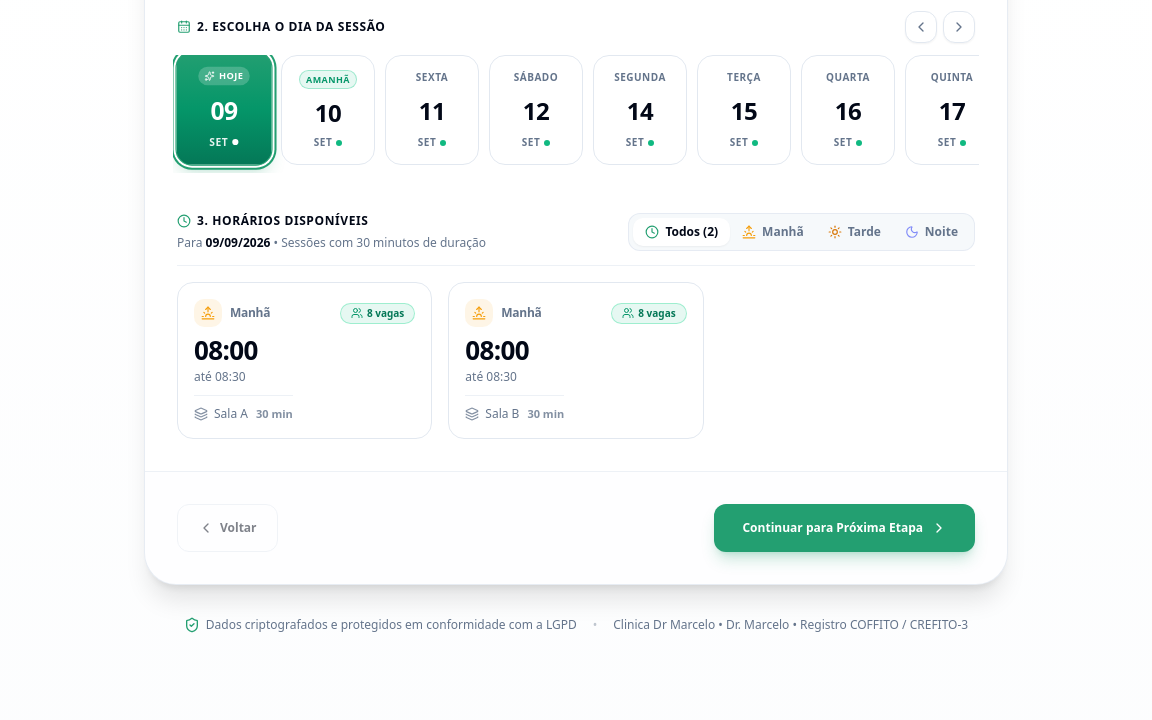
an open page removes a selected slot when its start arrives
(page scrolled)
Click the button "Manhã 8 vagas 08:00 até 08:30 Sala A 30 min".
click(305, 360)  # box x1=177 y1=282 x2=432 y2=439
Wait 1000 ms
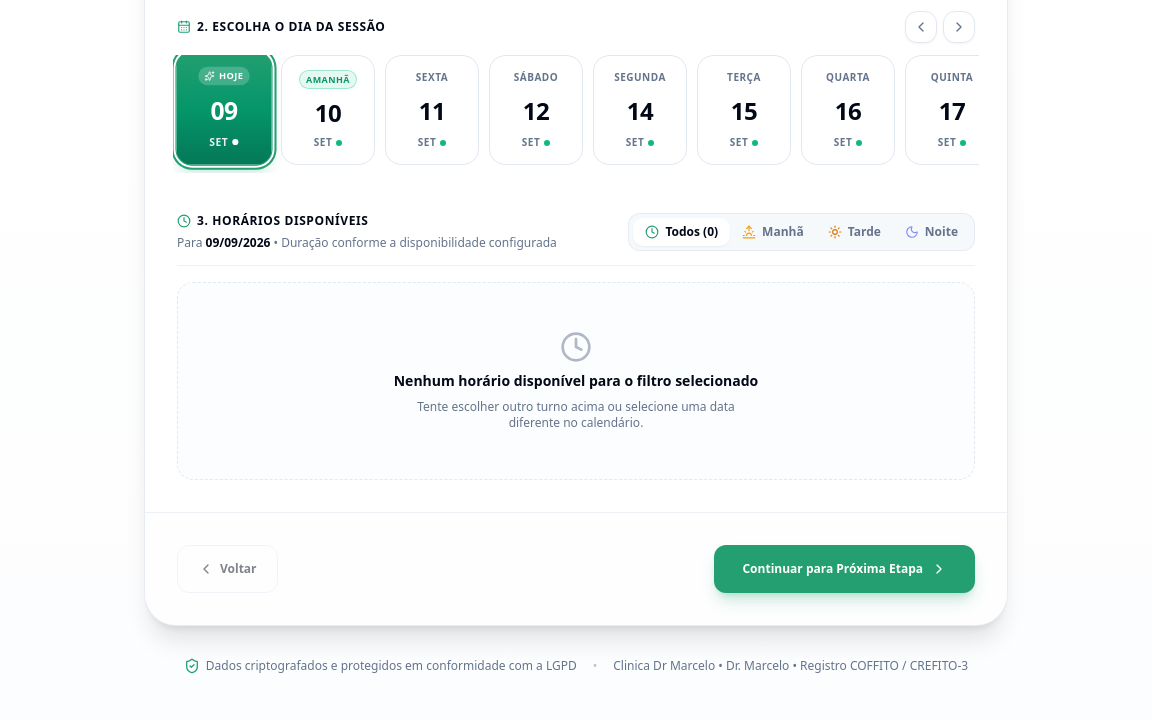
Expected: the button "Sala A" is gone
